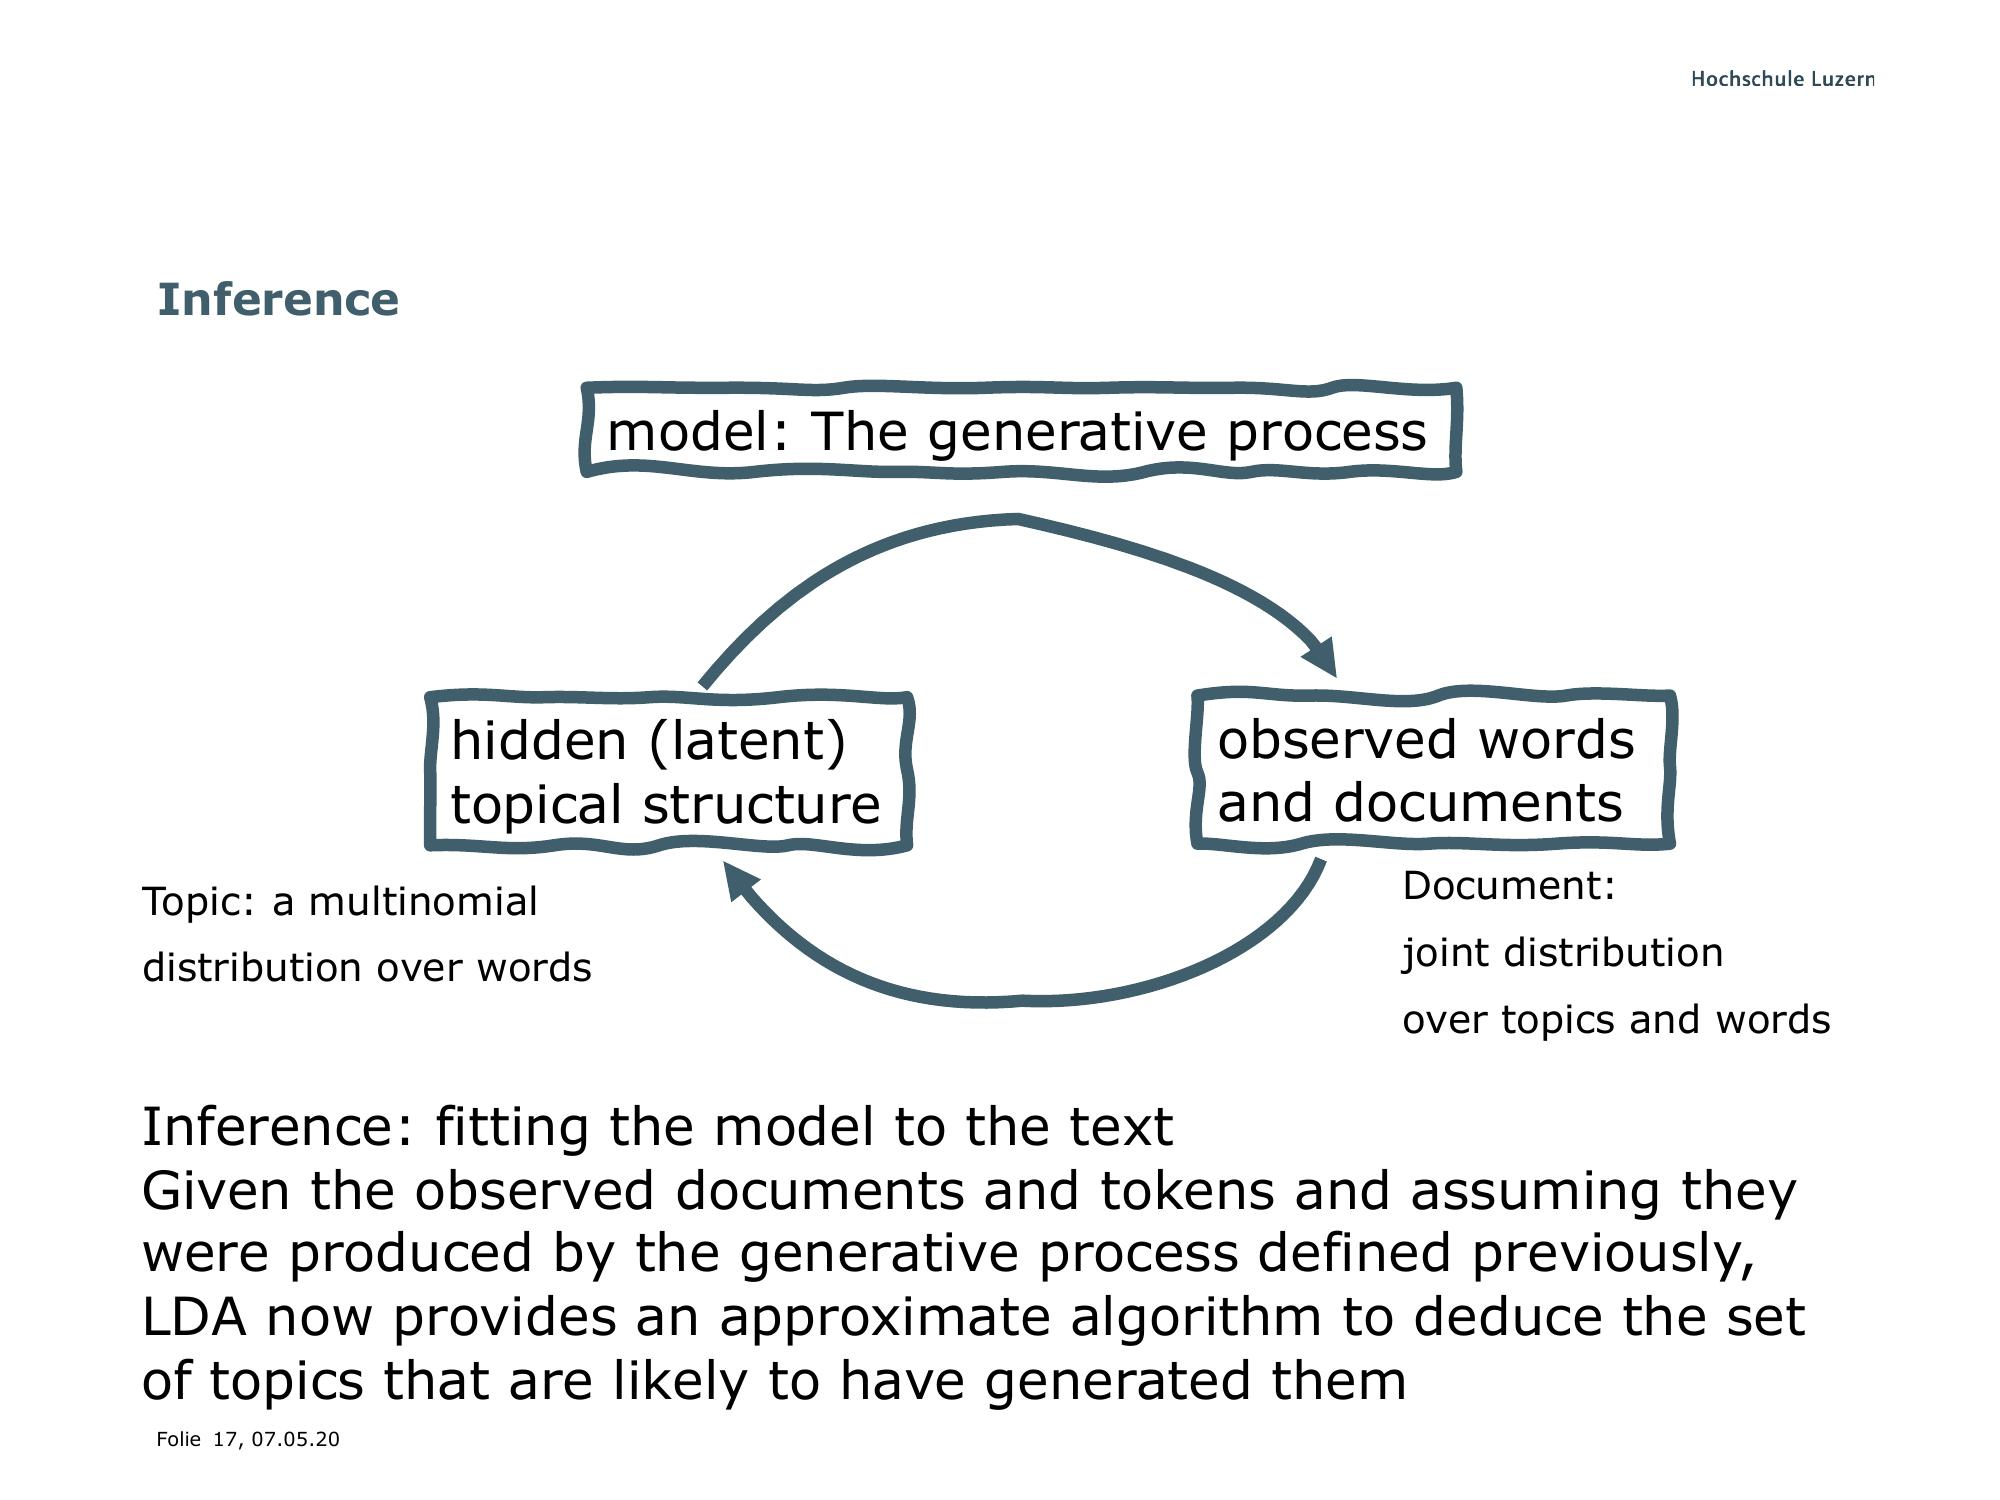Title: (150, 265, 409, 331)
